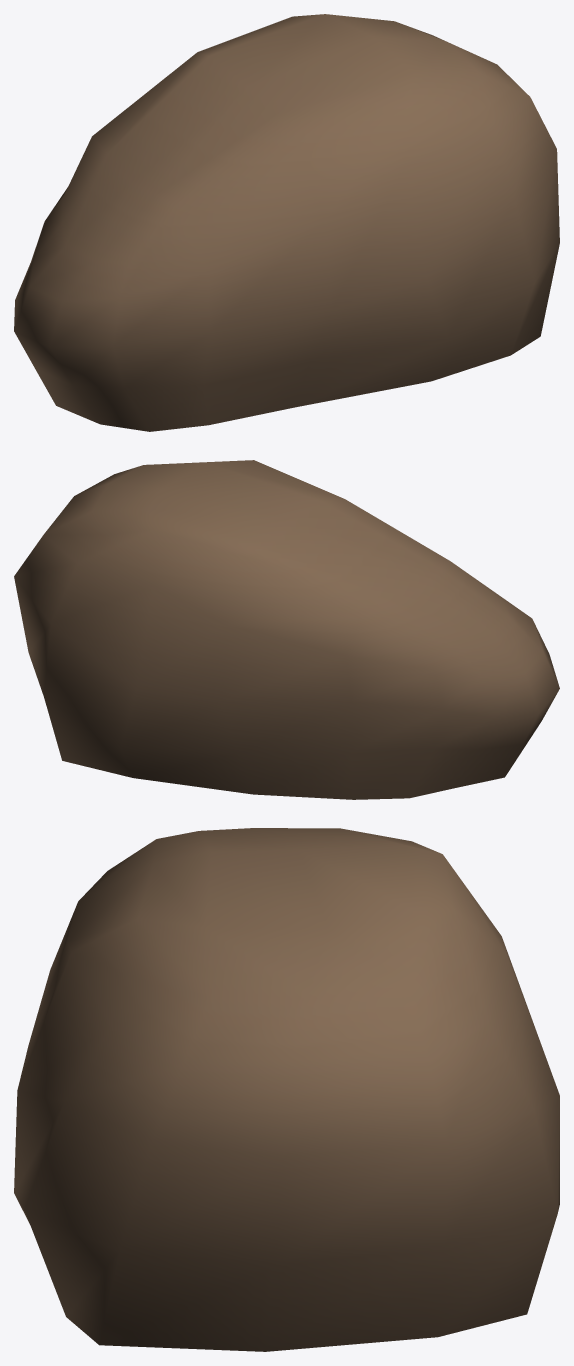
Rendered from Stone_02_A.fbx.
The picture shows the model from 3 angles, top to bottom: view 1: azimuth 30°, elevation 25°; view 2: azimuth 150°, elevation 25°; view 3: azimuth 270°, elevation 25°; orthographic projection. The views are drawn at different scales.
Parts seen in each view (by area): view 1: Stone_02_A; view 2: Stone_02_A; view 3: Stone_02_A.
Part boxes in pixels (x1=…): Stone_02_A: x1=14, y1=14, x2=559, y2=431; Stone_02_A: x1=14, y1=460, x2=559, y2=799; Stone_02_A: x1=14, y1=828, x2=559, y2=1351.
Size of the model in its own units: 2774 by 1338 by 1811.
